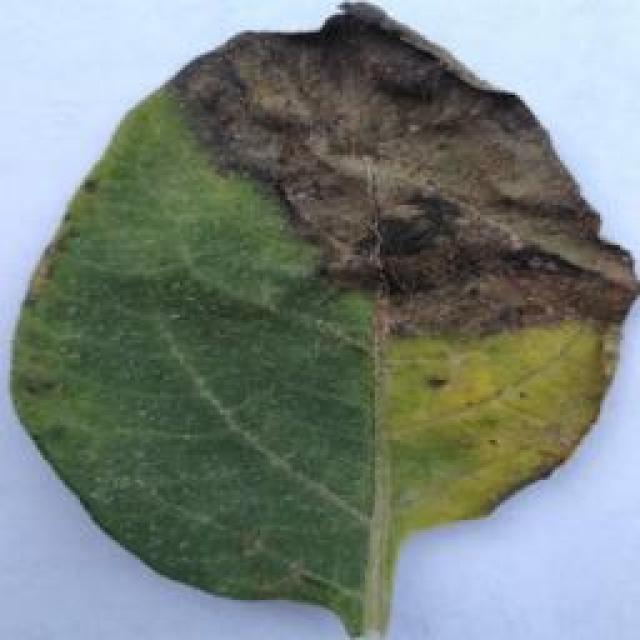Potato_Late_Blight: (2, 25, 630, 640)
